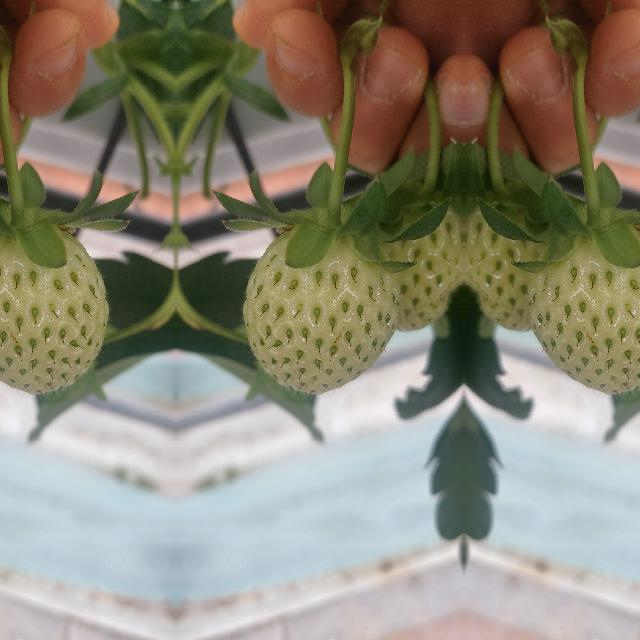Health_25: (242, 234, 398, 394), (528, 234, 640, 393), (0, 234, 108, 393), (356, 193, 462, 333), (464, 193, 570, 333)
